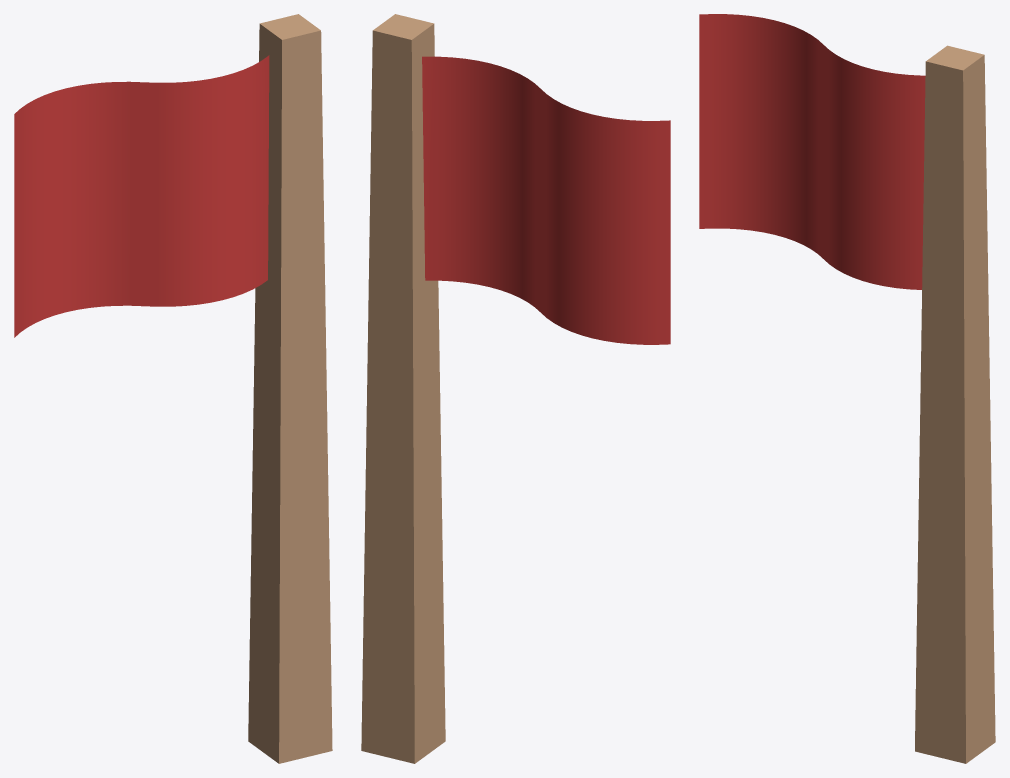
File: flag.glb
The picture shows the model from 3 angles, left to right: view 1: azimuth 30°, elevation 25°; view 2: azimuth 150°, elevation 25°; view 3: azimuth 330°, elevation 25°; orthographic projection. The views are drawn at different scales.
Parts seen in each view (by area): view 1: flag; view 2: flag; view 3: flag.
Boxes of the visible parts, x1,y1,x2,y2 form: flag: (14,14,332,763); flag: (361,14,670,763); flag: (699,14,995,763).
Bounding box in the file's own units: 0.3905 × 0.9 × 0.0754.
